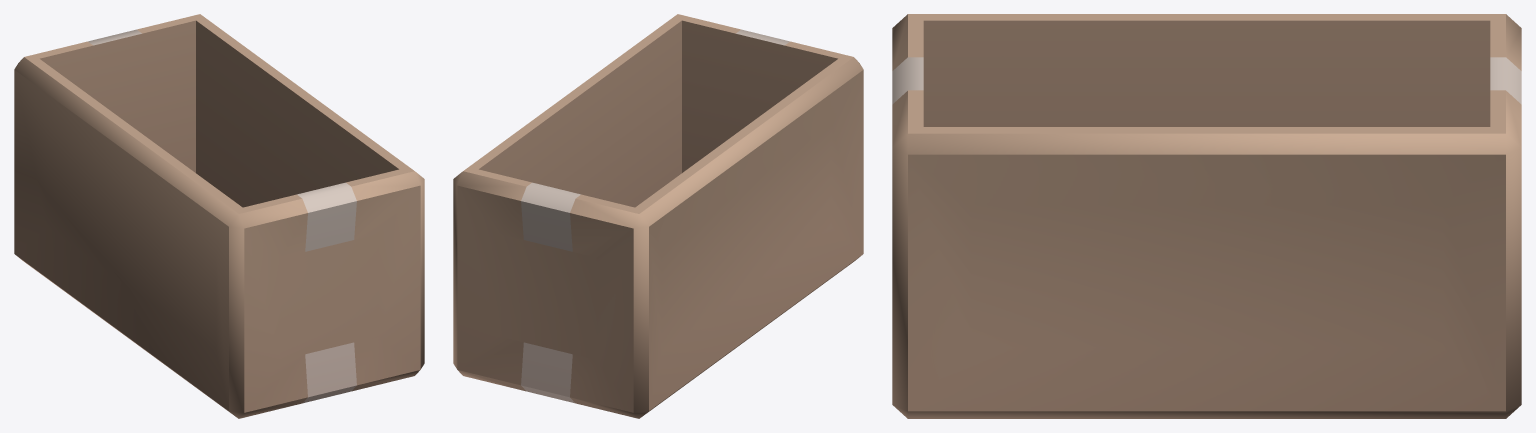
The model's file is cardboard-box-long-empty_0.glb.
The picture shows the model from 3 angles, left to right: view 1: azimuth 30°, elevation 25°; view 2: azimuth 150°, elevation 25°; view 3: azimuth 270°, elevation 25°; orthographic projection. The views are drawn at different scales.
Parts seen in each view (by area): view 1: cardboard-box-long-empty; view 2: cardboard-box-long-empty; view 3: cardboard-box-long-empty.
Part boxes in pixels (x1,y1,x2,y2): cardboard-box-long-empty: (14,14,424,418); cardboard-box-long-empty: (453,14,863,418); cardboard-box-long-empty: (892,14,1521,418).
Bounding box in the file's own units: 0.375 × 0.375 × 0.75.
